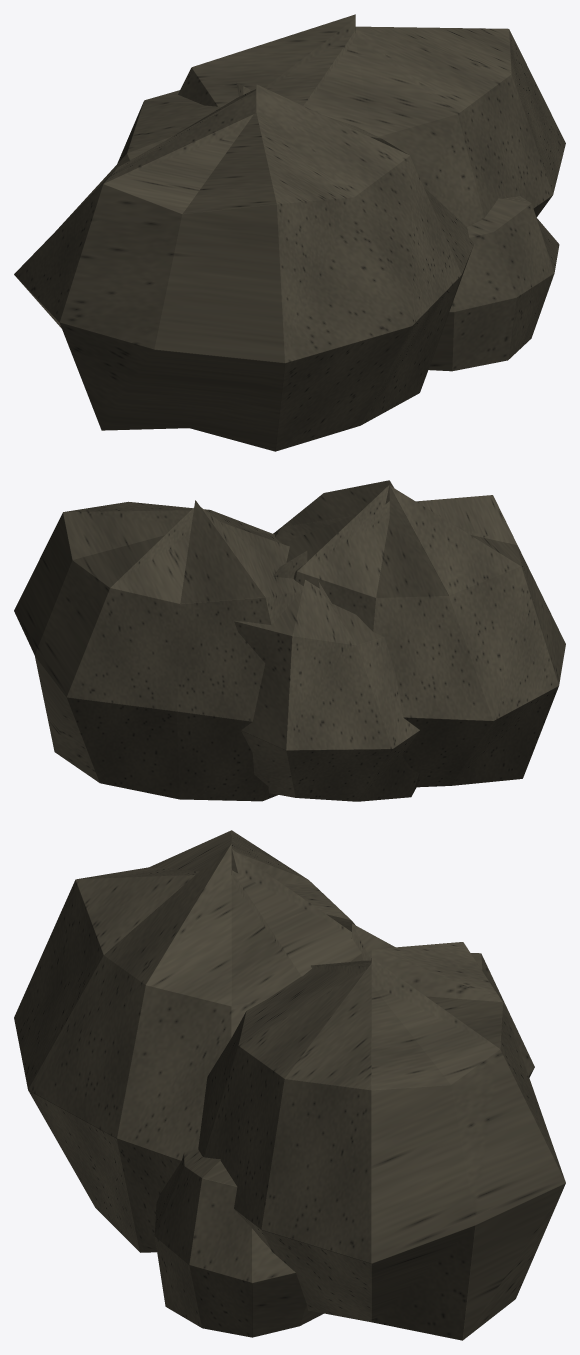
The model's file is PROP-A00CEBC2C86C_lod1.glb.
3 renders of one model, top to bottom at view 1: azimuth 30°, elevation 25°; view 2: azimuth 150°, elevation 25°; view 3: azimuth 270°, elevation 25°, orthographic. The views are drawn at different scales.
Parts seen in each view (by area): view 1: rock.009; view 2: rock.009; view 3: rock.009.
Part boxes in pixels (box(x1,y1,x2,y2)): rock.009: box(14, 14, 565, 451); rock.009: box(14, 480, 565, 801); rock.009: box(14, 830, 565, 1340).
Bounding box in the file's own units: 1.98 × 1.03 × 1.5.
Materials: 1 (1 with a texture image).
